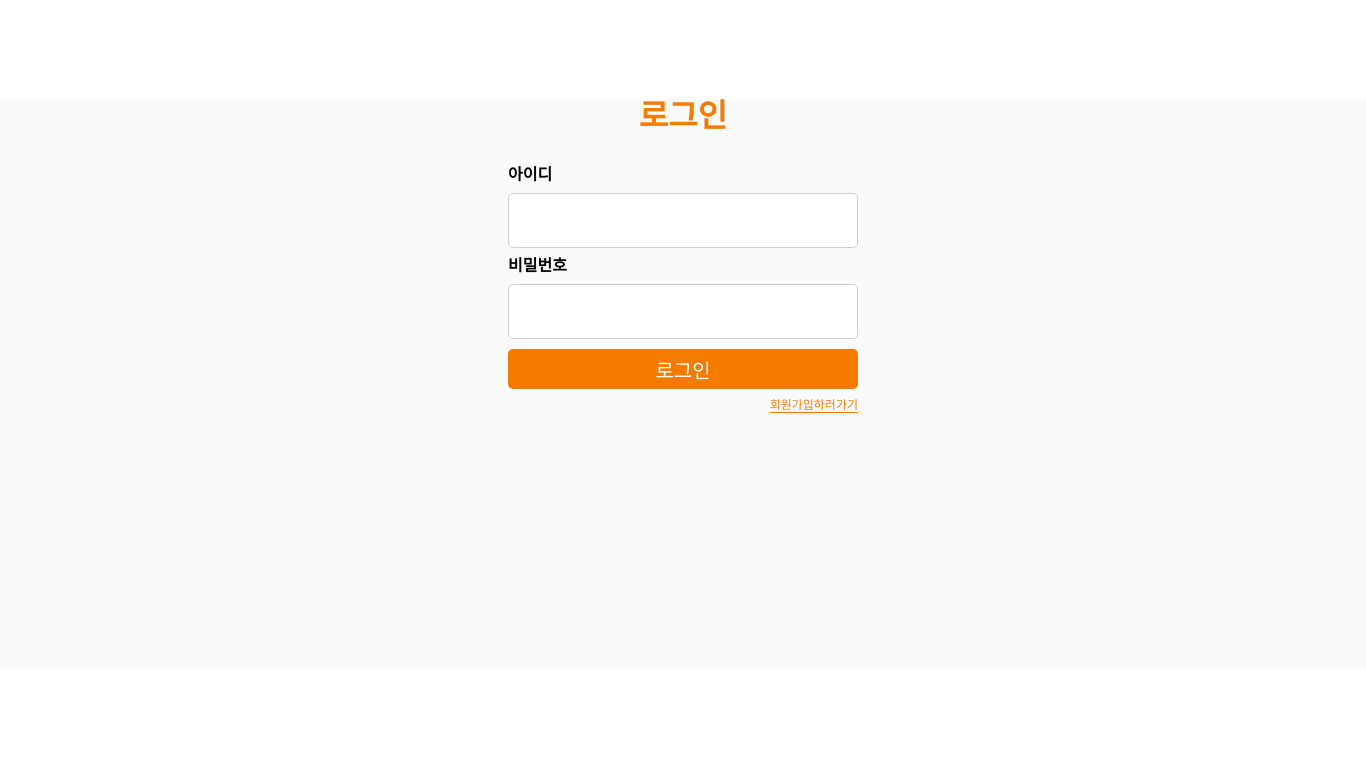
Test: 로그인 컴포넌트 › [ERROR] 아이디 또는 비밀번호를 입력안했을 시 alert창 띄우기
Expected: the password field with test id "password-input" is shown, [508, 284, 858, 339]
Type "testUser" into the field with test id "id-input". click: (683, 220)
box: [508, 193, 858, 248]
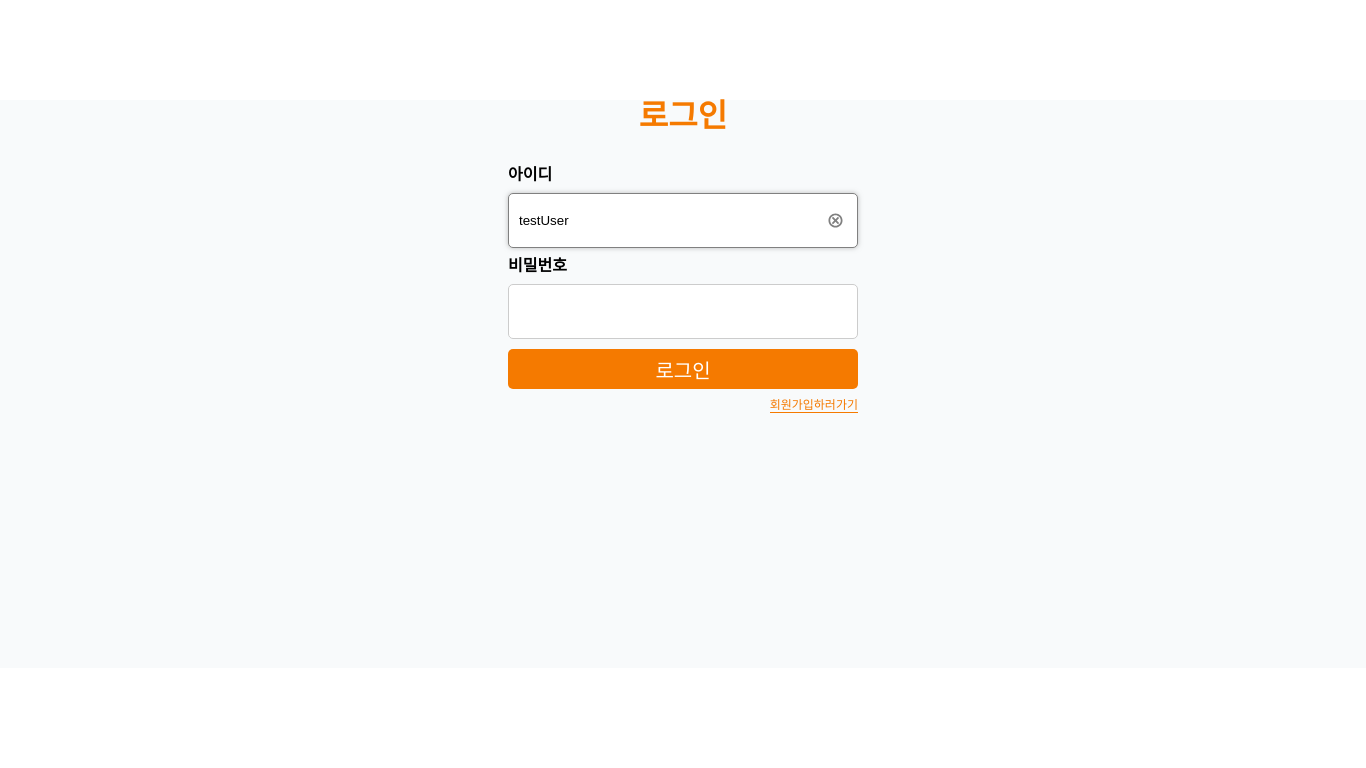
Expected: the password field with test id "password-input" is empty, [508, 284, 858, 339]
Click the button "로그인". click: (683, 369)
box: [508, 349, 858, 389]
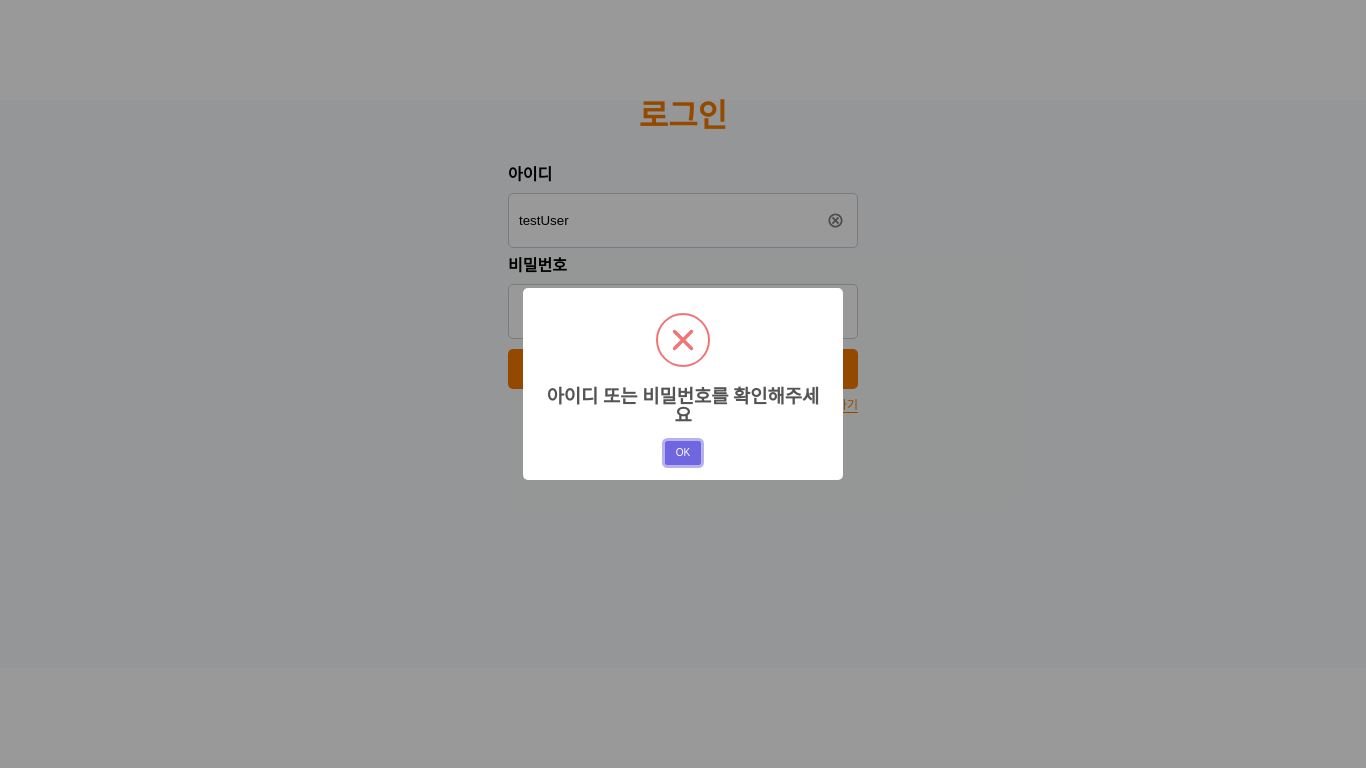
Result: the dialog is shown at [523, 288, 843, 480]
